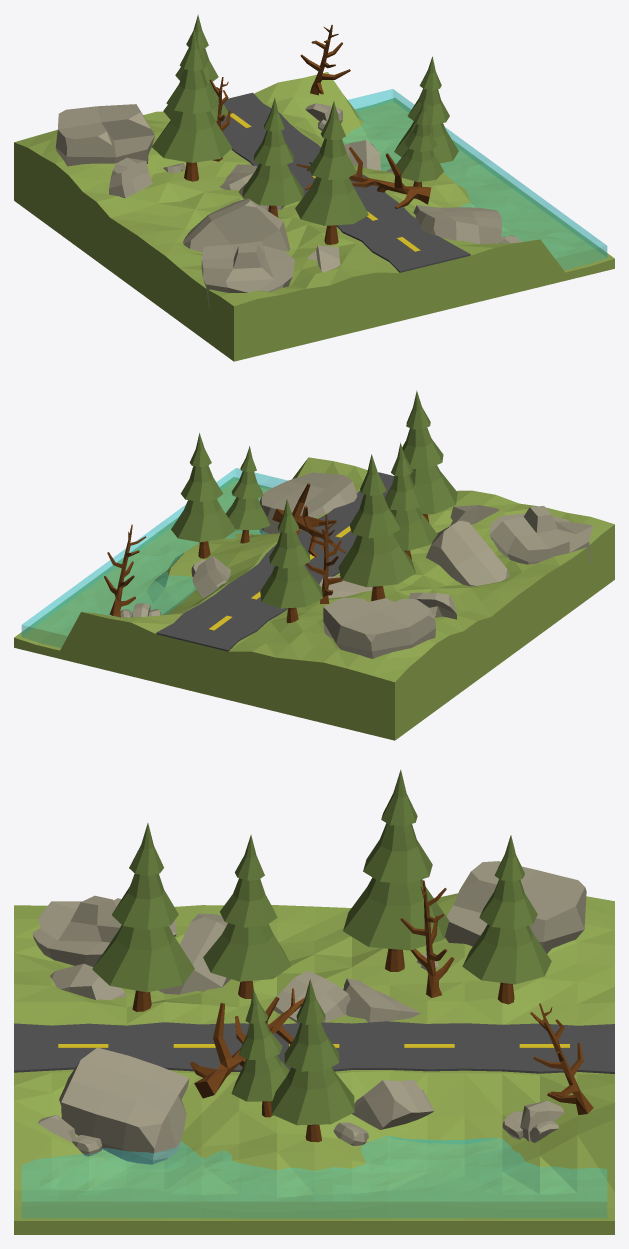
The model's file is ForestRoad.glb.
3 views of the same model, one above another, from view 1: azimuth 30°, elevation 25°; view 2: azimuth 150°, elevation 25°; view 3: azimuth 270°, elevation 25° (orthographic). The views are drawn at different scales.
Parts seen in each view (by area): view 1: Terrain, Water, Road, Tree, Rock, Tree.001, Rock.001, Rock.004, Tree.002, Rock.007, Tree.005, Tree.004 (+7 smaller); view 2: Terrain, Water, Road, Rock, Tree, Rock.001, Tree.003, Tree.005, Rock.004, Tree.001, Rock.007, Tree.002 (+8 smaller); view 3: Terrain, Water, Road, Rock.007, Tree, Tree.001, Tree.003, Tree.005, Rock, Tree.002, Rock.001, Tree.004 (+10 smaller).
Part boxes in pixels (left/top/right/bottom): Terrain: left=14, top=72, right=614, bottom=361; Water: left=342, top=89, right=607, bottom=269; Road: left=221, top=92, right=470, bottom=272; Tree: left=152, top=29, right=231, bottom=181; Rock: left=55, top=104, right=154, bottom=166; Tree.001: left=295, top=101, right=368, bottom=244; Rock.001: left=201, top=241, right=294, bottom=309; Rock.004: left=183, top=198, right=290, bottom=252; Tree.002: left=242, top=97, right=303, bottom=217; Rock.007: left=413, top=205, right=501, bottom=243; Tree.005: left=394, top=56, right=458, bottom=163; Tree.004: left=396, top=100, right=443, bottom=186; Terrain: left=14, top=457, right=614, bottom=740; Water: left=21, top=468, right=287, bottom=647; Road: left=156, top=472, right=394, bottom=651; Rock: left=323, top=597, right=435, bottom=658; Tree: left=338, top=454, right=415, bottom=601; Rock.001: left=489, top=506, right=593, bottom=564; Tree.003: left=260, top=499, right=322, bottom=623; Tree.005: left=171, top=433, right=235, bottom=558; Rock.004: left=426, top=520, right=509, bottom=586; Tree.001: left=402, top=390, right=457, bottom=522; Rock.007: left=259, top=472, right=357, bottom=534; Tree.002: left=385, top=442, right=437, bottom=559; Terrain: left=14, top=893, right=614, bottom=1234; Water: left=22, top=1136, right=606, bottom=1218; Road: left=14, top=1021, right=614, bottom=1073; Rock.007: left=59, top=1047, right=189, bottom=1164; Tree: left=343, top=769, right=448, bottom=971; Tree.001: left=92, top=823, right=194, bottom=1011; Tree.003: left=462, top=835, right=551, bottom=1004; Tree.005: left=271, top=979, right=354, bottom=1142; Rock: left=445, top=861, right=586, bottom=953; Tree.002: left=203, top=834, right=290, bottom=998; Rock.001: left=33, top=895, right=176, bottom=967; Tree.004: left=231, top=988, right=289, bottom=1117.
Bounding box in the file's own units: 8.02 × 4.37 × 8.
